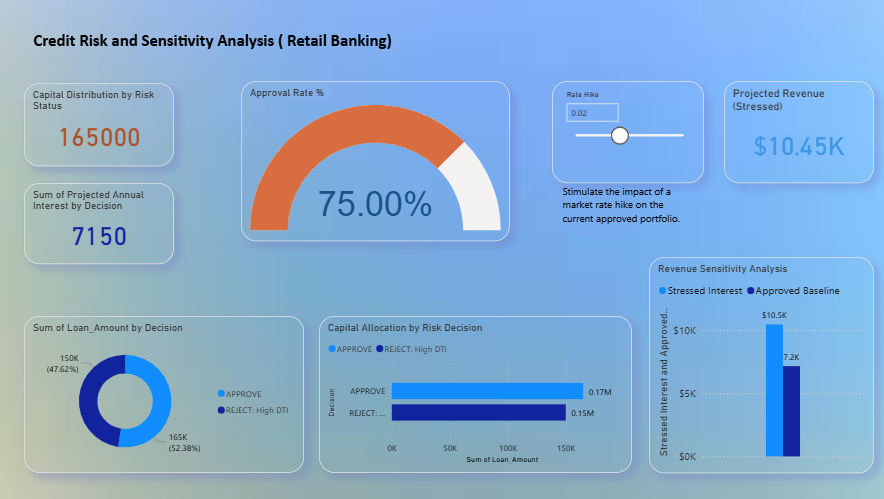

Layout of this report page (visuals, bound fields, positions):
{"tool":"powerbi","page":{"name":"Page 1","canvas":[1280,720],"ordinal":0},"visuals":[{"type":"kpi","title":"Capital Distribution by Risk Status","fields":{"Indicator":["Sum(Sheet1.Loan_Amount)"],"TrendLine":["Sheet1.Decision"]},"box":[42.9,118.6,214.3,118.6],"z":0},{"type":"kpi","fields":{"TrendLine":["Sheet1.Decision"],"Indicator":["Sum(Sheet1.Projected Annual Interest)"]},"box":[42.9,261.4,214.3,115.7],"z":1000},{"type":"donutChart","fields":{"Category":["Sheet1.Decision"],"Y":["Sum(Sheet1.Loan_Amount)"]},"box":[42.9,451.4,400,224.3],"z":2000},{"type":"gauge","fields":{"Y":["Sheet1.Approval Rate %"]},"box":[352.9,115.7,384.3,228.6],"z":3000},{"type":"barChart","title":"Capital Allocation by Risk Decision","fields":{"Category":["Sheet1.Decision"],"Y":["Sum(Sheet1.Loan_Amount)"],"Series":["Sheet1.Decision"]},"box":[464.3,451.4,447.1,224.3],"z":4000},{"type":"kpi","title":"Projected Revenue (Stressed)","fields":{"Indicator":["Sheet1.Stressed Interest"],"TrendLine":["Rate Hike.Rate Hike"]},"box":[1042.9,115.7,214.3,145.7],"z":5000},{"type":"slicer","fields":{"Values":["Rate Hike.Rate Hike"]},"box":[797.1,115.7,217.1,145.7],"z":6000},{"type":"clusteredColumnChart","title":"Revenue Sensitivity Analysis","fields":{"Y":["Sheet1.Stressed Interest","Sheet1.Approved Baseline"]},"box":[935.7,367.1,321.4,308.6],"z":7000},{"type":"textbox","box":[807.1,258.6,195.7,82.9],"z":8000},{"type":"textbox","box":[10,37.1,604.3,65.7],"z":9000}]}

Visuals, with their boxes in screenshot pixels (x1, y1, x2, y2), scaled from the page's 1280x720 canvas onto the 884x499 screenshot:
"Capital Distribution by Risk Status" kpi: 30,82,178,164
kpi - Sheet1.Decision x Sum(Sheet1.Projected Annual Interest): 30,181,178,261
donutChart - Sheet1.Decision x Sum(Sheet1.Loan_Amount): 30,313,306,468
gauge - Sheet1.Approval Rate %: 244,80,509,239
"Capital Allocation by Risk Decision" barChart: 321,313,629,468
"Projected Revenue (Stressed)" kpi: 720,80,868,181
slicer - Rate Hike.Rate Hike: 550,80,700,181
"Revenue Sensitivity Analysis" clusteredColumnChart: 646,254,868,468
textbox: 557,179,693,237
textbox: 7,26,424,71
